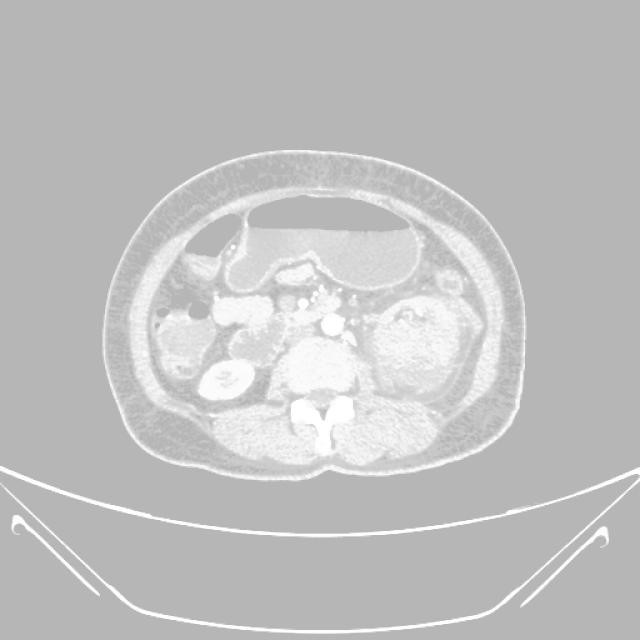TUMOR: (150, 257, 500, 381)
